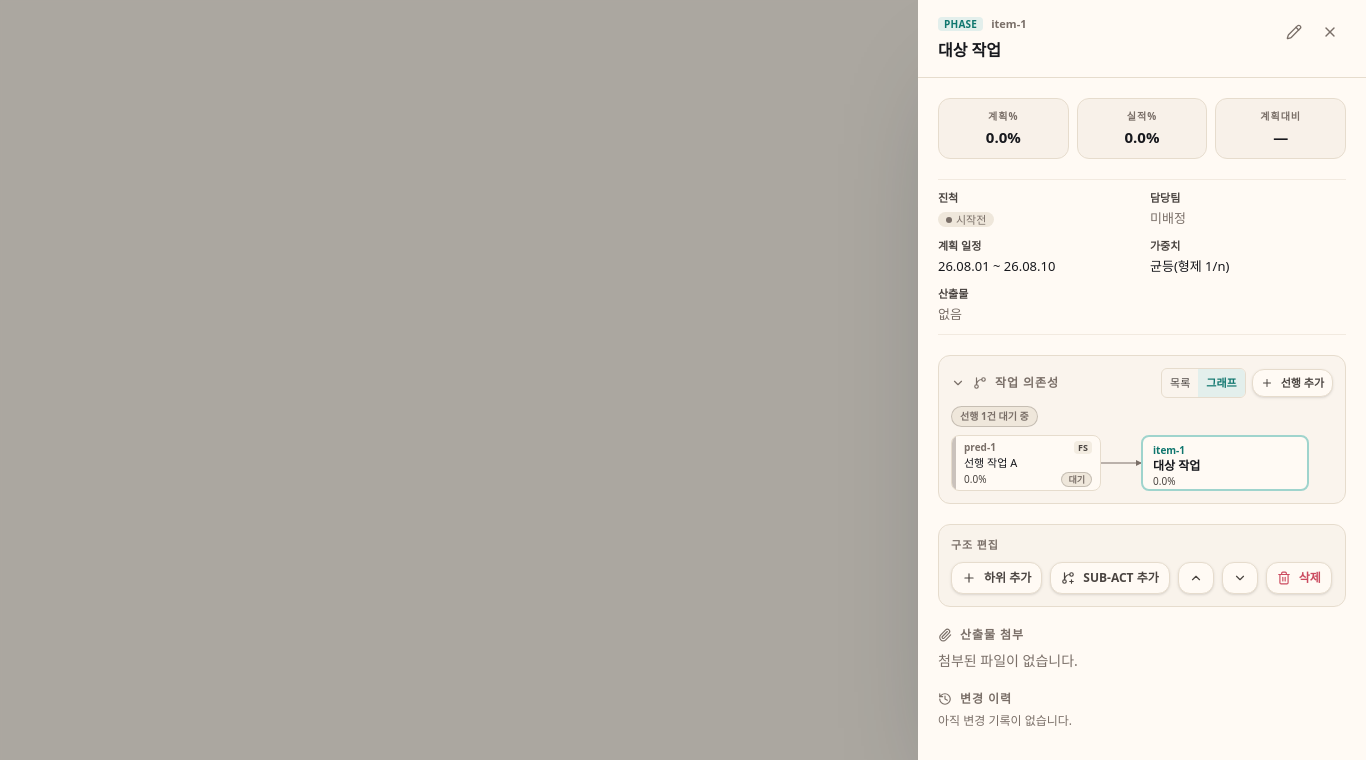
Test: RowDetailPanel — 선행/후속 섹션 › wbs.md 에서 합성된 선행(origin=spec) › 편집 권한이 있으면 manual 행에는 삭제 버튼이 붙는다
Click the button "목록" at (1180, 383), box [1162,369,1198,397]
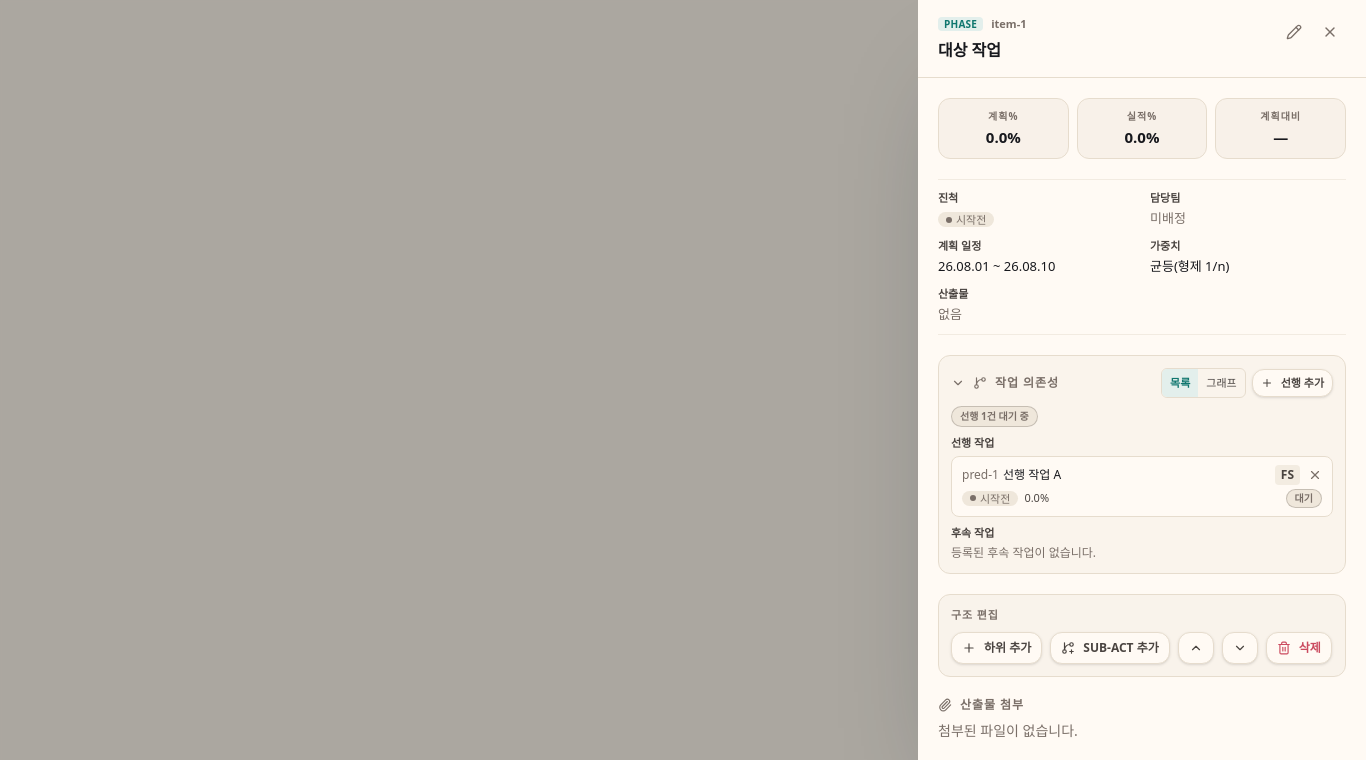
Expected: the button named "의존성 삭제" is shown, [1308,468,1322,482]
